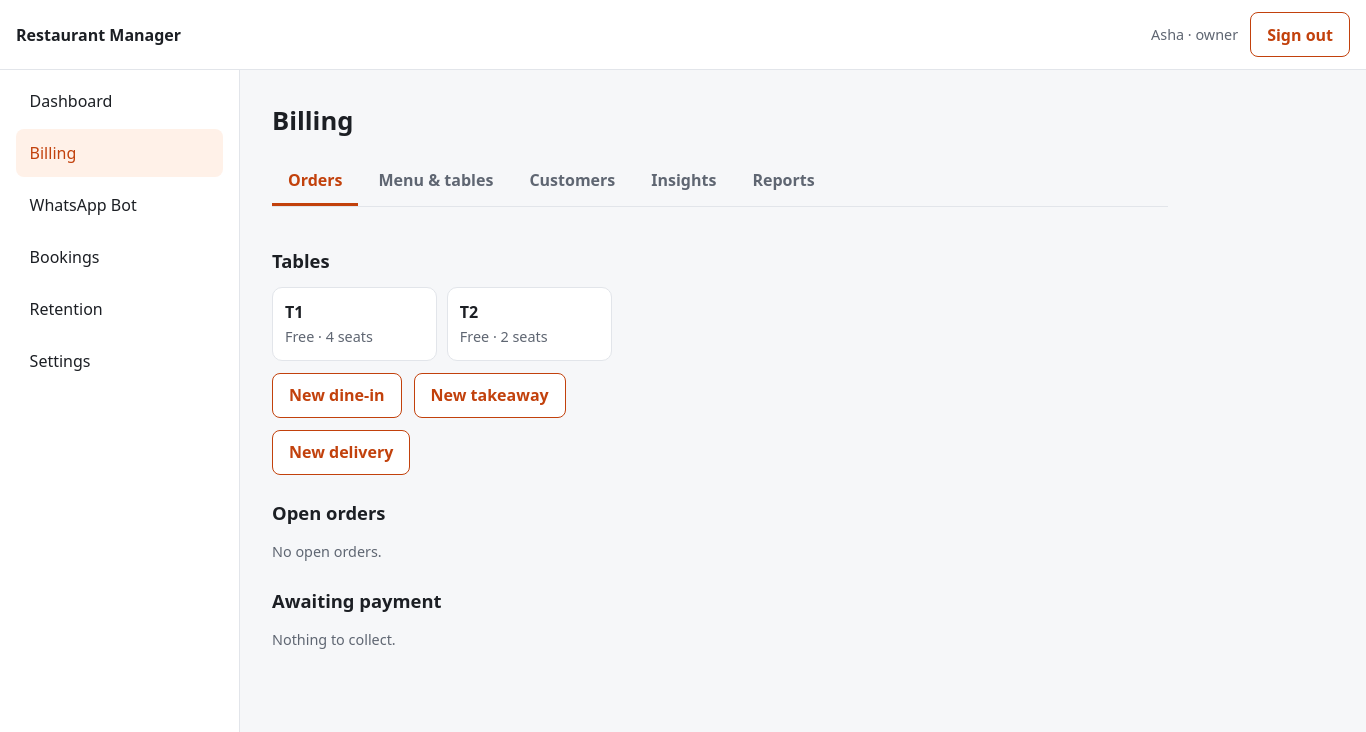
Test: Stock in the order panel › disables a sold-out item and says so
Step 1. Click the button "T1 Free · 4 seats" → (355, 324), box [272,287,437,361]
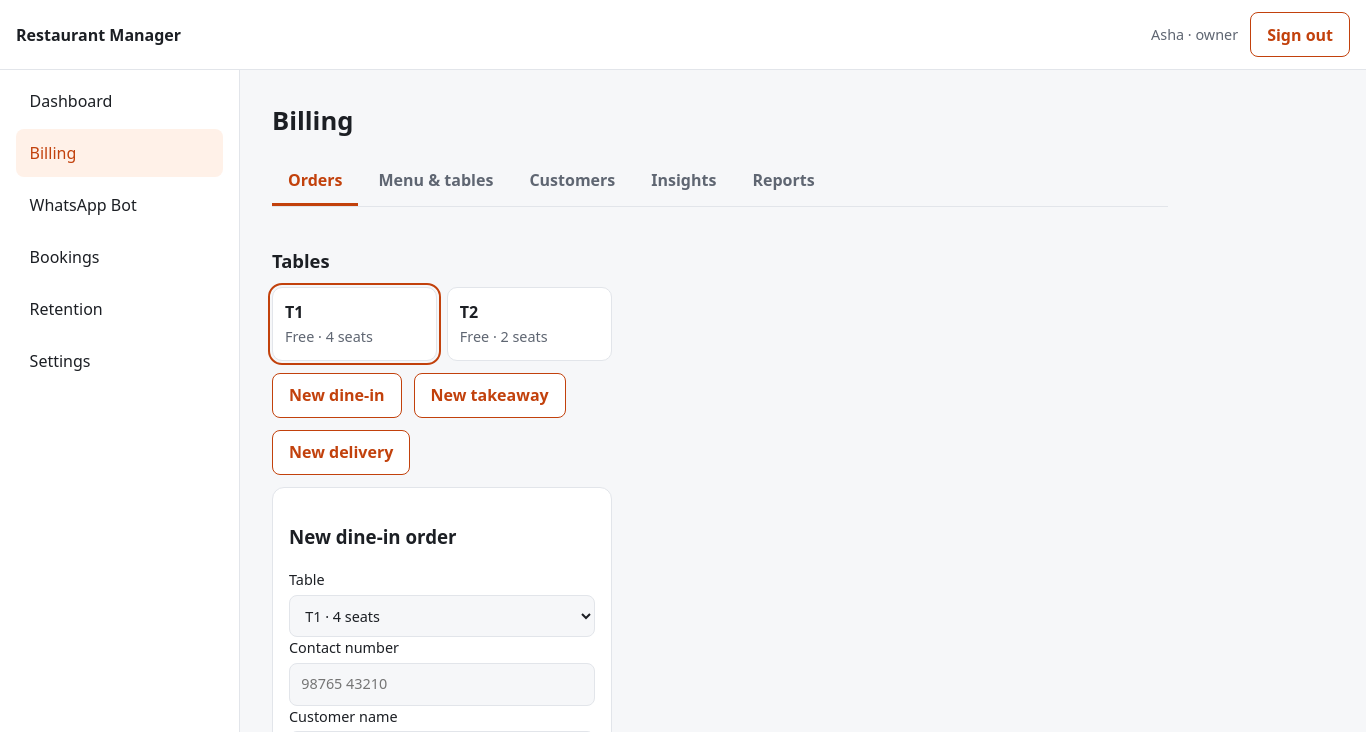
Step 2. Type "9811111111" into the field labelled "Contact number" → (442, 684), box [289,663,595,706]
(page scrolled)
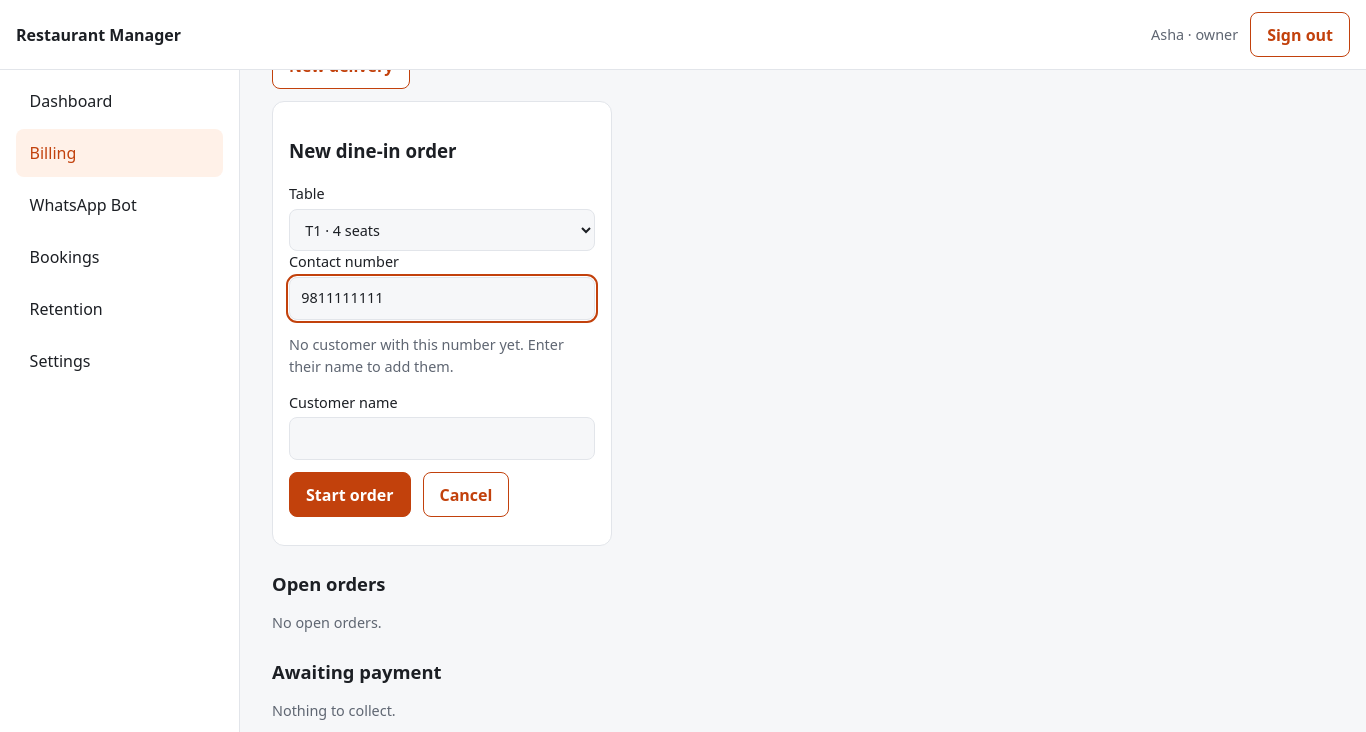
Step 3. Type "Neha" into the field labelled "Customer name" → (442, 439), box [289,417,595,460]
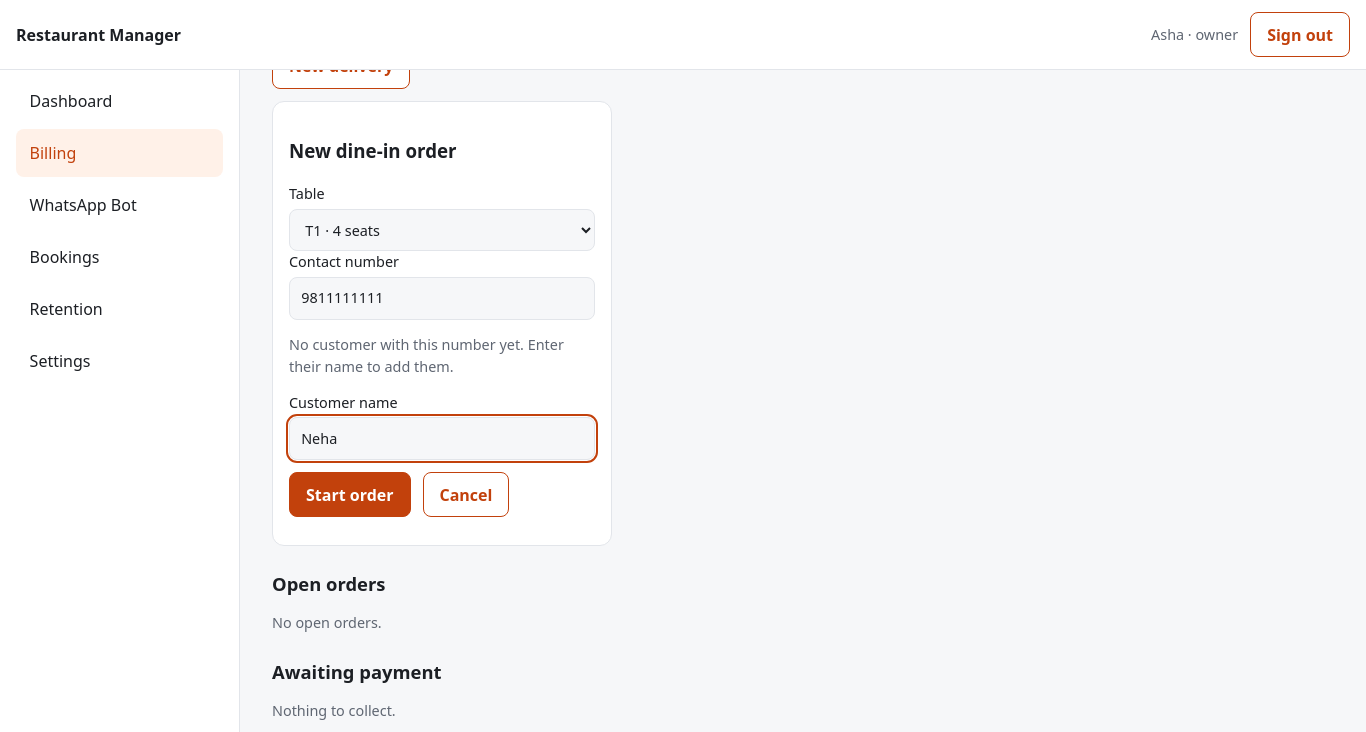
Step 4. Click the button "Start order" → (350, 495), box [289,472,410,517]
(page scrolled)
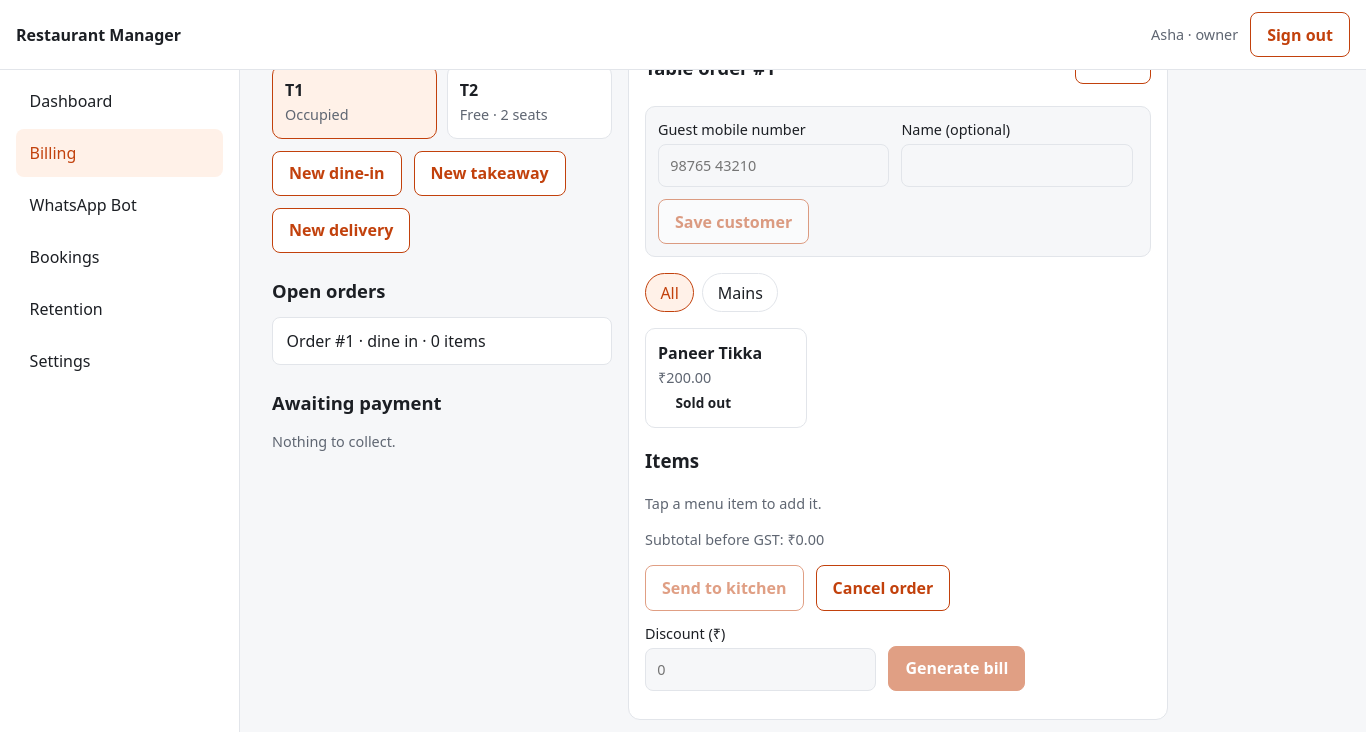
Expected: the heading "Table order #1" is shown, [645,54,776,82]
Expected: the button with aria-label "Add Paneer Tikka" is disabled, [645,328,807,428]
Expected: the text "Sold out" is shown, [676,393,731,412]
